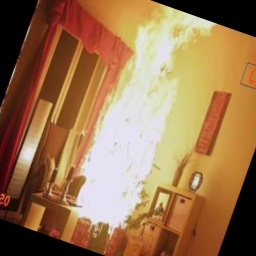fire: (55, 0, 227, 250)
